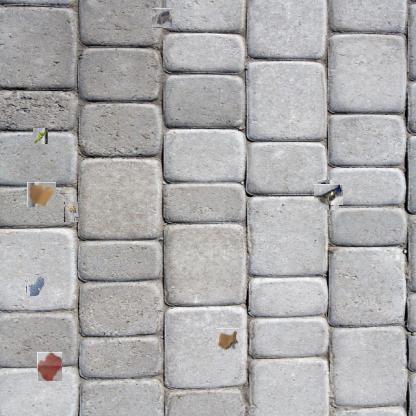dirty: (28, 181, 55, 208), (316, 182, 341, 208), (215, 329, 240, 353), (153, 8, 172, 28), (64, 202, 78, 222), (32, 128, 48, 144)
liquid: (37, 352, 62, 381), (26, 274, 44, 296)
